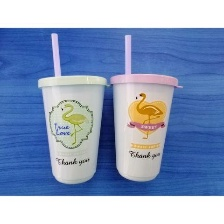drinking_straw: (47, 30, 67, 79), (121, 33, 138, 75)
glass: (32, 67, 109, 190), (109, 69, 186, 186)
